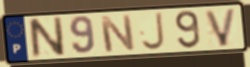9: (67, 14, 97, 57), (173, 10, 202, 50)
J: (140, 11, 167, 52)
N: (26, 15, 67, 60), (98, 13, 137, 54)
V: (203, 7, 239, 48)
